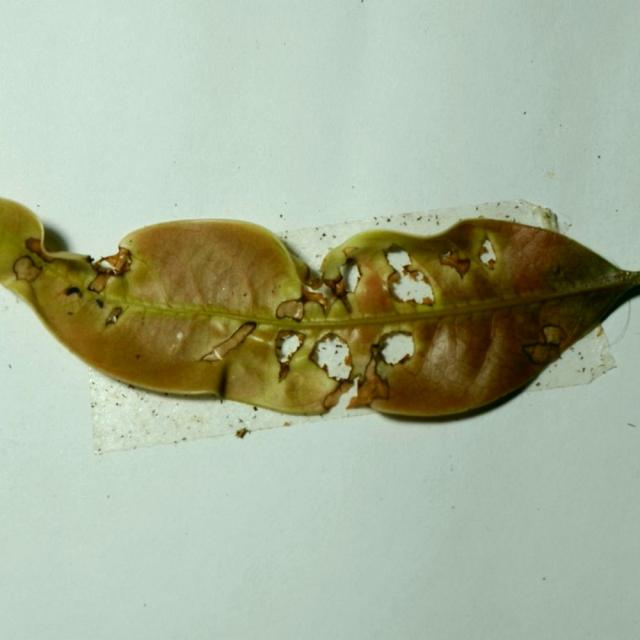Anthracnose: (182, 312, 262, 366), (383, 248, 435, 307), (344, 353, 392, 410), (86, 248, 134, 294), (309, 332, 354, 381), (521, 324, 566, 365), (273, 329, 306, 379), (374, 330, 416, 368), (324, 266, 354, 313), (321, 379, 356, 411), (438, 248, 471, 281), (299, 283, 333, 315), (24, 236, 61, 264), (12, 255, 43, 283), (274, 299, 305, 322), (62, 289, 89, 315), (343, 261, 362, 293), (479, 238, 498, 269), (88, 272, 112, 294), (386, 269, 402, 299), (337, 290, 353, 313), (105, 307, 123, 327), (332, 278, 347, 296), (201, 350, 221, 363), (305, 276, 322, 290), (343, 246, 360, 258)
Lemon: (6, 205, 639, 425)
